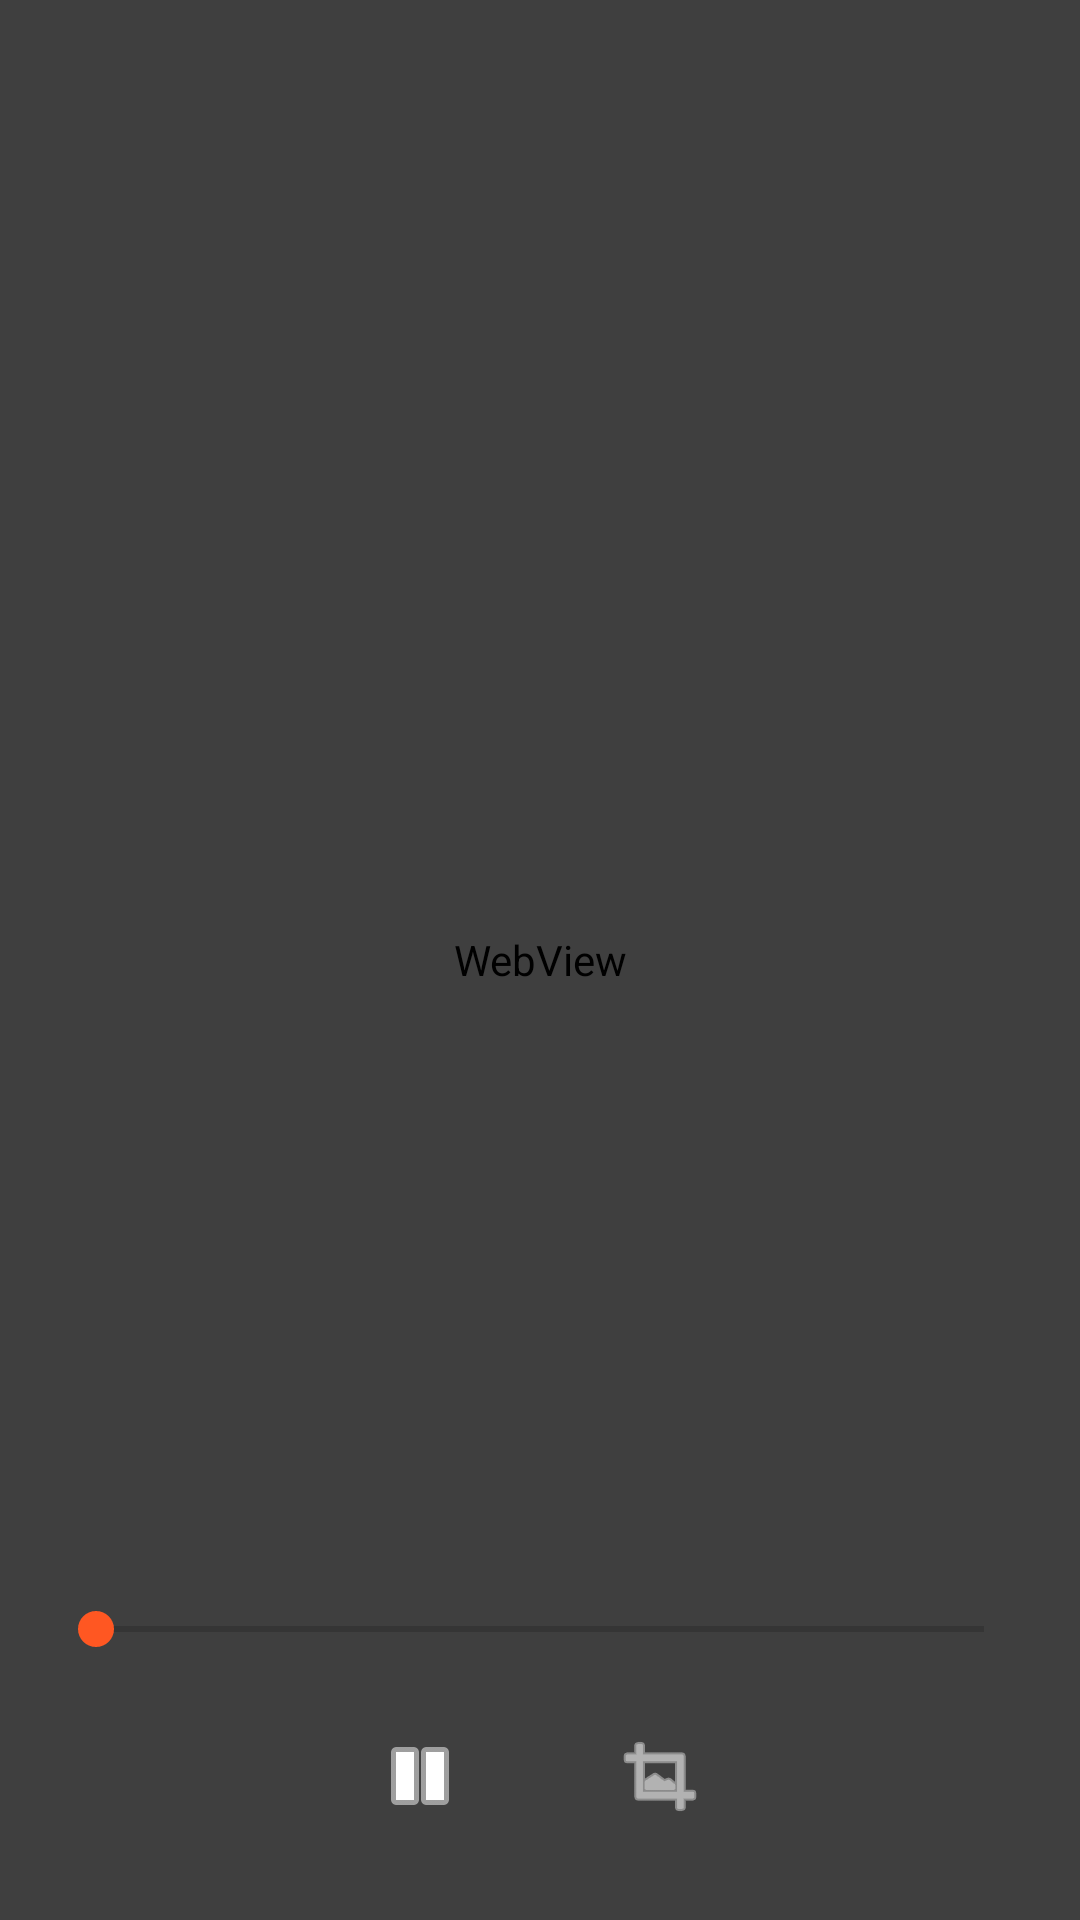

Icons on this 1080 × 1920 Android screen, each with the point to tap as point (x, y):
crop: point (660, 1776)
pause: point (420, 1776)
